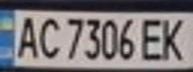0: (100, 16, 121, 62)
3: (81, 15, 103, 61)
6: (118, 16, 139, 62)
7: (60, 15, 84, 61)
A: (12, 12, 42, 60)
C: (33, 13, 63, 60)
E: (139, 15, 169, 62)
K: (157, 15, 190, 62)
